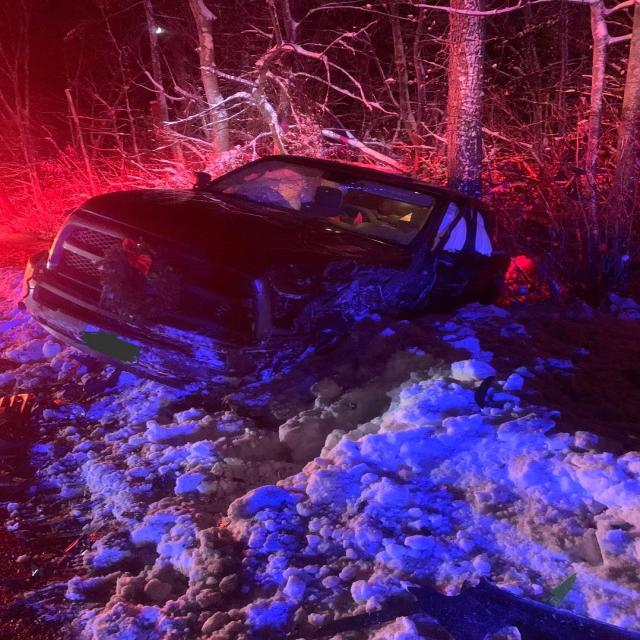Accident: (12, 149, 640, 447)
